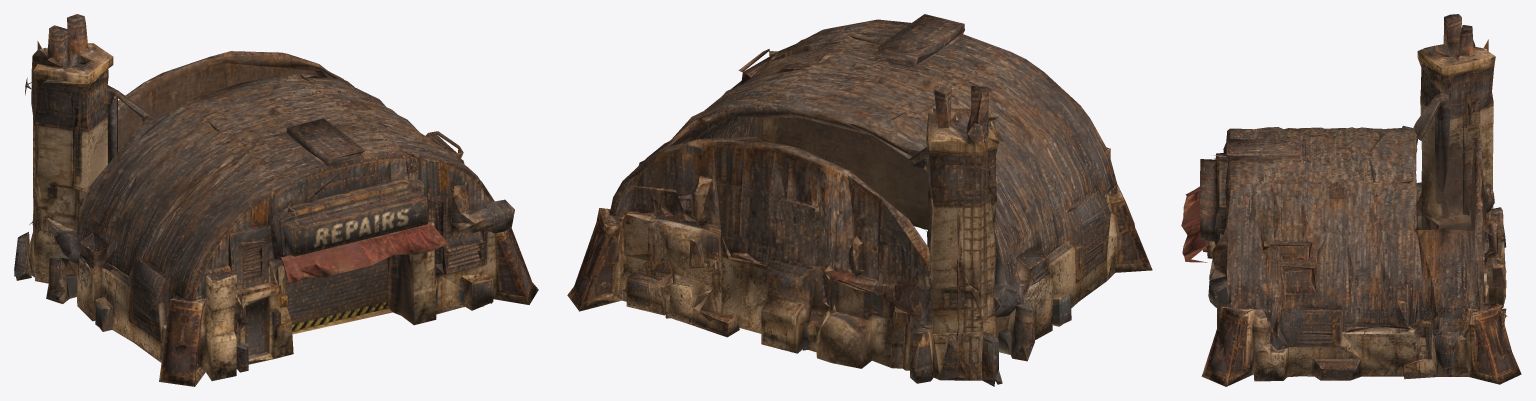
The model's file is repairs.fbx.
The picture shows the model from 3 angles, left to right: view 1: azimuth 30°, elevation 25°; view 2: azimuth 150°, elevation 25°; view 3: azimuth 270°, elevation 25°; orthographic projection. The views are drawn at different scales.
Visible parts, largest first — view 1: Mesh_0; view 2: Mesh_0; view 3: Mesh_0.
Part boxes in pixels (box(x1,y1,x2,y2)): Mesh_0: box(14, 14, 538, 386); Mesh_0: box(567, 14, 1152, 386); Mesh_0: box(1181, 14, 1521, 386).
Size of the model in its own units: 191 by 120 by 168.
1 material, 1 textured.
